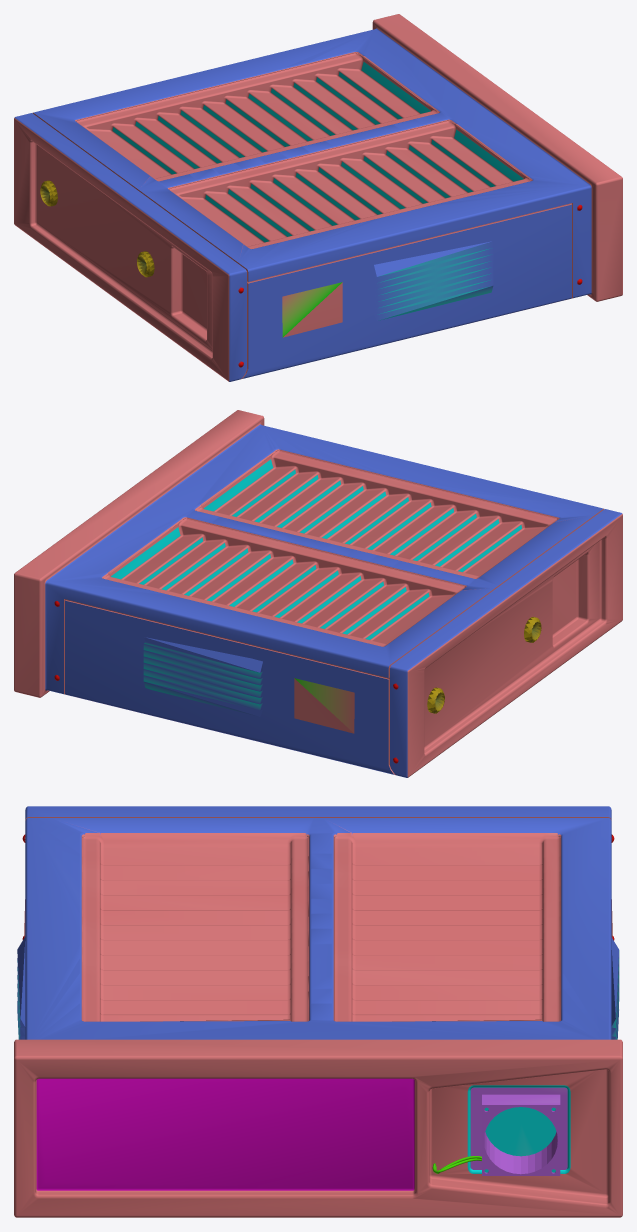
Rendered from MoneyPrinter_LOD1.fbx.
3 renders of one model, top to bottom at view 1: azimuth 30°, elevation 25°; view 2: azimuth 150°, elevation 25°; view 3: azimuth 270°, elevation 25°, orthographic. The views are drawn at different scales.
Visible parts, largest first — view 1: Fluent_Wire.015; view 2: Fluent_Wire.015; view 3: Fluent_Wire.015.
Part boxes in pixels (x1,y1,x2,y2): Fluent_Wire.015: (14,14,622,381); Fluent_Wire.015: (14,410,622,777); Fluent_Wire.015: (14,806,622,1217).
Size of the model in its own units: 34.76 by 10.04 by 34.23.
